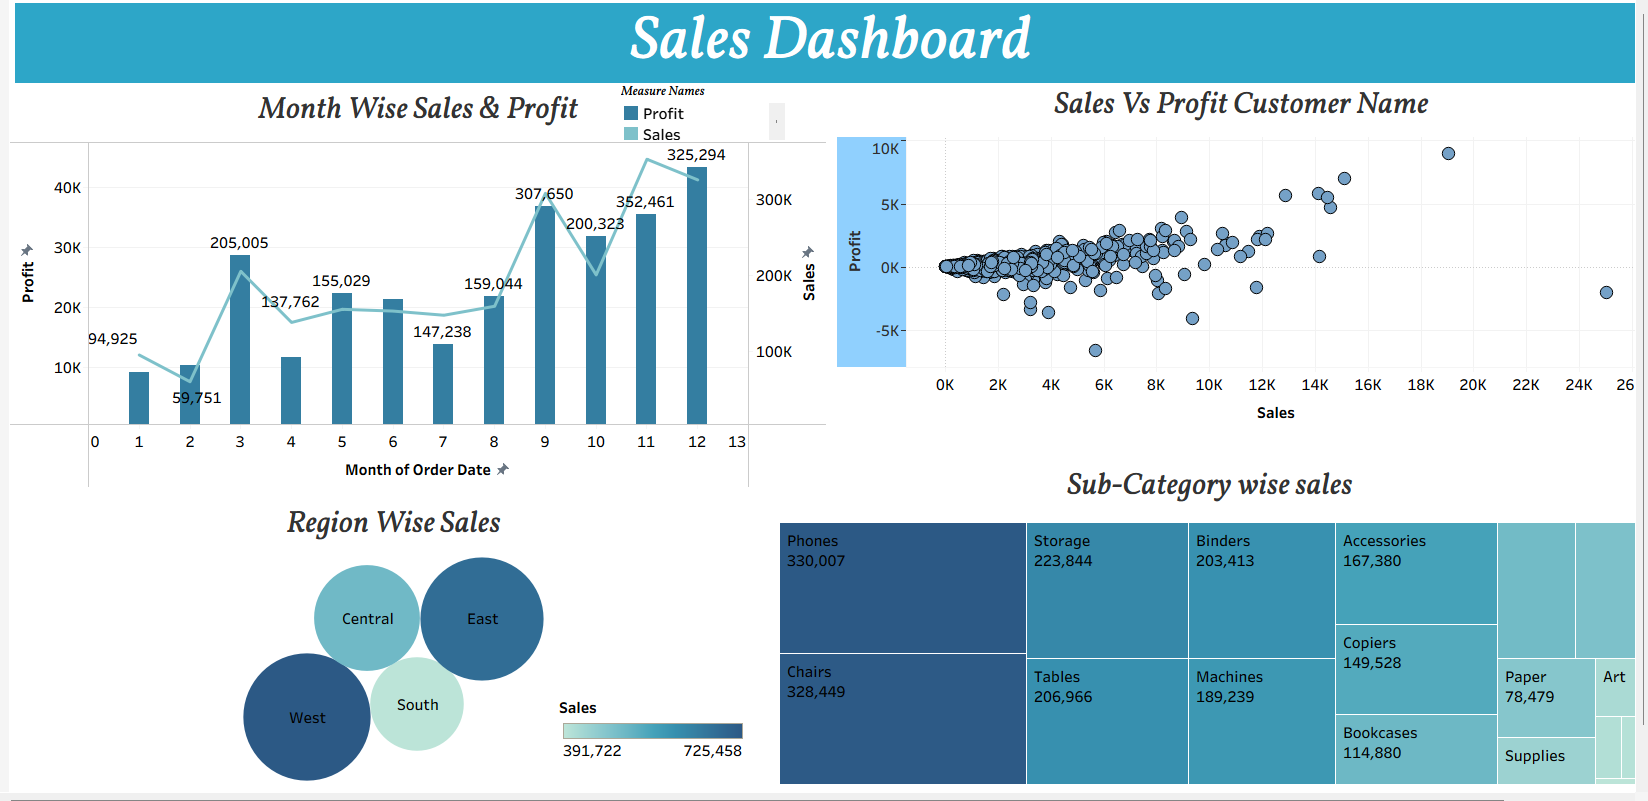

The dashboard page shown, as its layout file describes it:
{"tool":"tableau","page":{"name":"Sales Dashboard","canvas":[1000,1000],"units":"permille","ordinal":0},"visuals":[{"type":"text","box":[3.5,7.2,948.8,100.6]},{"type":"blank","box":[4.7,9.6,990.7,980.8]},{"type":"worksheet","title":"Sales Vs Profit Customer Name","mark":"Circle","rows":["Profit"],"cols":["Sales"],"box":[481.4,104.2,470.4,440.7]},{"type":"legend","title":"Month Wise Sales & Profit","param":"[federated.0tlslmf0hbiy3i14pxlm40tklzyd].[:Measure Names]","box":[355.8,107.8,96.5,71.9]},{"type":"worksheet","title":"Month Wise Sales & Profit","mark":"Automatic","rows":["Profit","Sales"],"cols":["Order Date"],"box":[0.6,110.2,475,506.6]},{"type":"worksheet","title":"Sub-Category wise sales","mark":"Automatic","box":[445.4,583.2,505.8,413.2]},{"type":"worksheet","title":"Region Wise Sales","mark":"Circle","box":[15.7,631.1,415.7,354.5]},{"type":"legend","title":"Region Wise Sales","param":"[federated.0tlslmf0hbiy3i14pxlm40tklzyd].[sum:Sales:qk]","box":[319.8,880.2,109.3,80.2]}]}

Visuals, with their boxes on the dashboard's canvas, which has no fixed pixel size, in thousandths of its width and height (x1, y1, x2, y2). These are canvas units, not pixel positions in the 1648x801 screenshot, which may show the page scaled, cropped or inside an application window:
text: (4,7,952,108)
blank: (5,10,995,990)
"Sales Vs Profit Customer Name" worksheet (Circle marks): (481,104,952,545)
"Month Wise Sales & Profit" legend: (356,108,452,180)
"Month Wise Sales & Profit" worksheet: (1,110,476,617)
"Sub-Category wise sales" worksheet: (445,583,951,996)
"Region Wise Sales" worksheet (Circle marks): (16,631,431,986)
"Region Wise Sales" legend: (320,880,429,960)
